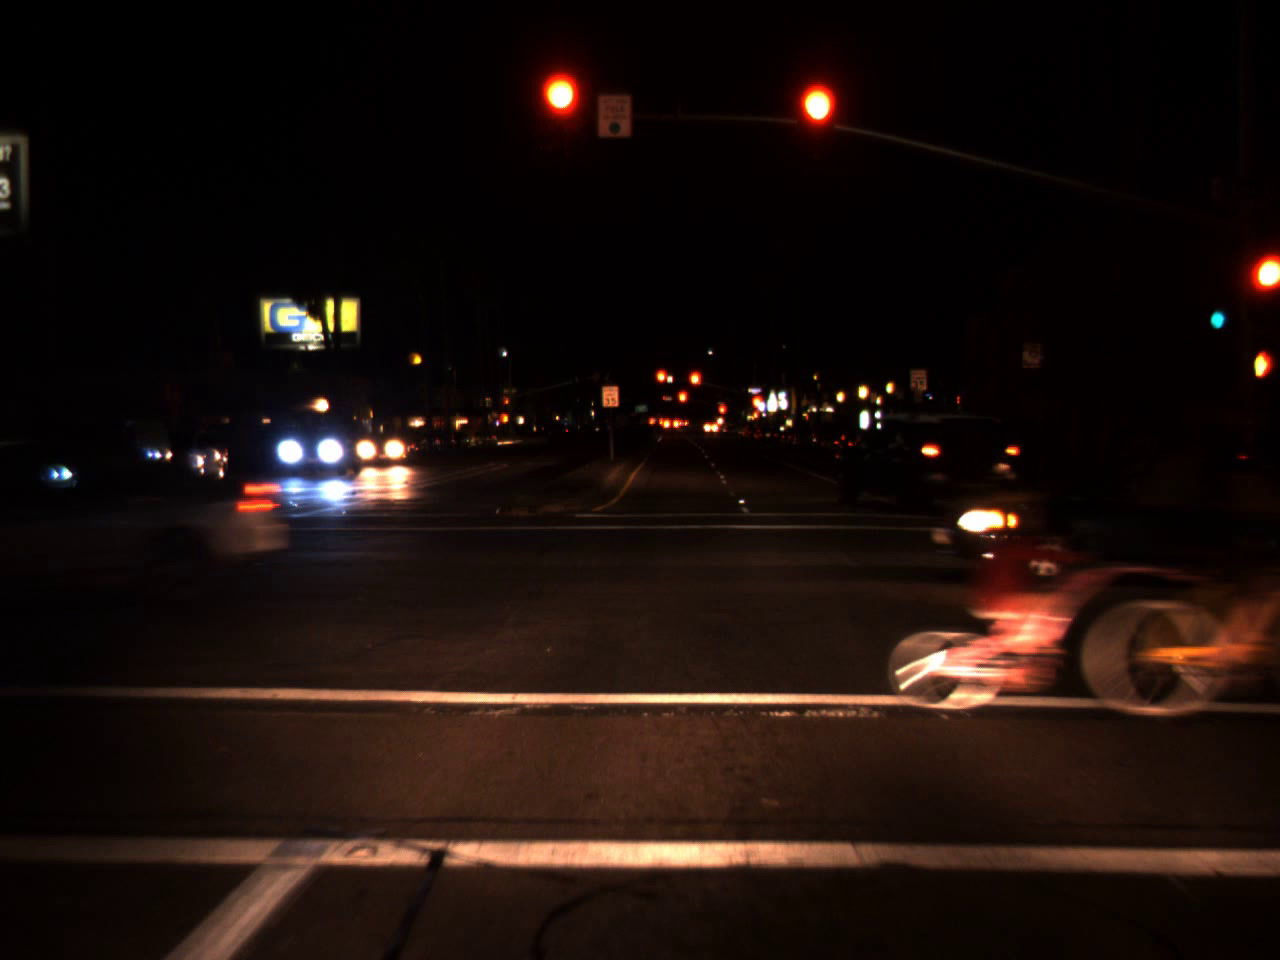stop: (541, 73, 580, 151), (798, 85, 834, 163), (1254, 259, 1280, 313), (749, 393, 764, 425), (654, 368, 670, 397), (688, 369, 701, 401), (677, 390, 689, 408), (717, 404, 726, 425), (503, 396, 509, 412)
